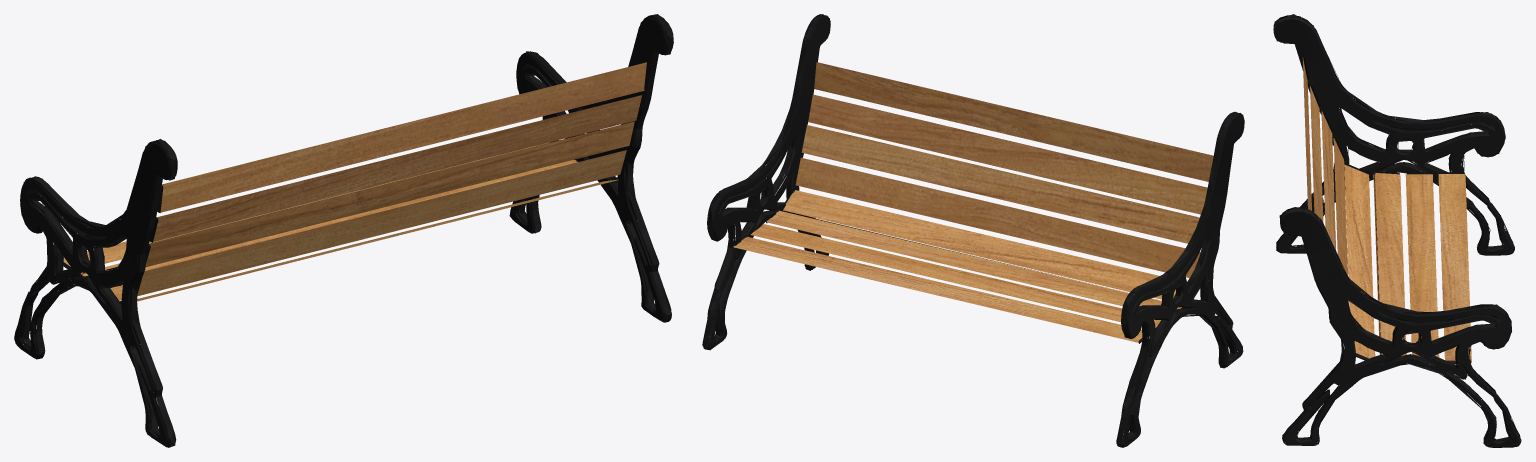
File: Banca_optim.obj
3 renders of one model, left to right at view 1: azimuth 30°, elevation 25°; view 2: azimuth 150°, elevation 25°; view 3: azimuth 270°, elevation 25°, orthographic. The views are drawn at different scales.
Visible parts, largest first — view 1: Madera.001, bench; view 2: Madera.001, bench; view 3: bench, Madera.001.
Boxes of the visible parts, x1,y1,x2,y2 form: Madera.001: (63,62,646,301); bench: (14,14,673,447); Madera.001: (733,62,1213,342); bench: (702,14,1244,447); bench: (1273,14,1521,447); Madera.001: (1302,58,1471,362).
Size of the model in its own units: 1.14 by 0.6466 by 0.6034.
